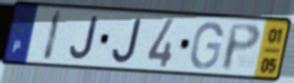4: (145, 16, 177, 71)
G: (188, 21, 225, 72)
I: (41, 9, 65, 64)
J: (110, 16, 145, 65), (68, 15, 100, 62)
P: (220, 22, 263, 74)
